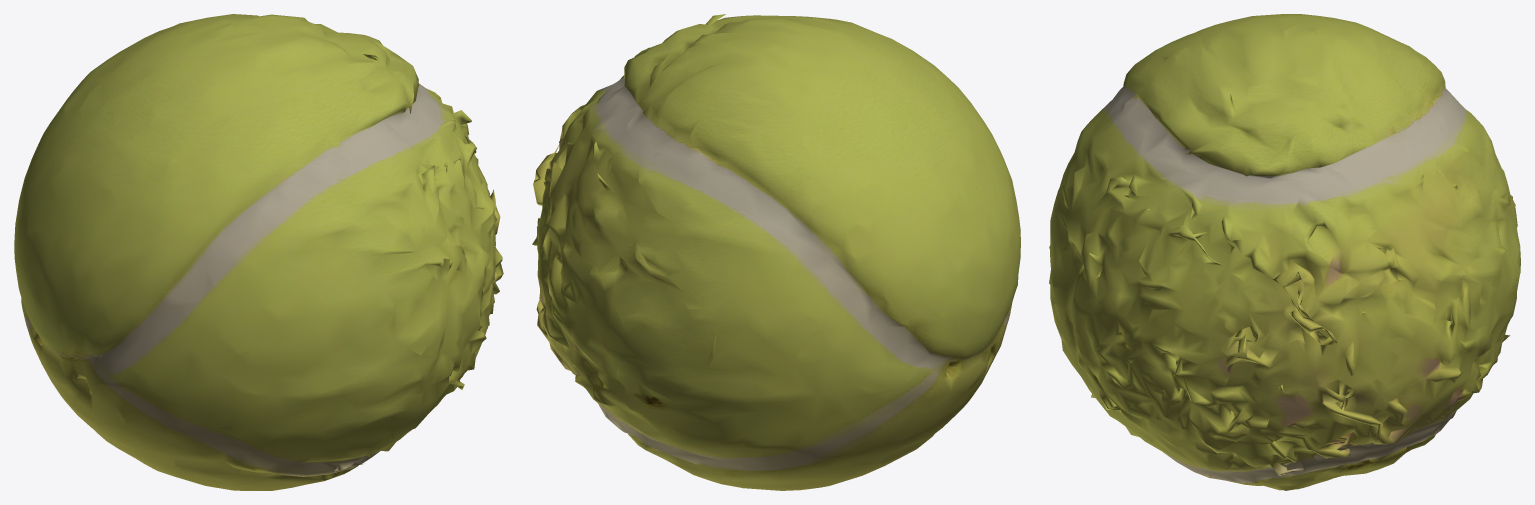
Rendered from tennis_old_h3.glb.
The picture shows the model from 3 angles, left to right: view 1: azimuth 30°, elevation 25°; view 2: azimuth 150°, elevation 25°; view 3: azimuth 270°, elevation 25°; orthographic projection.
Visible parts, largest first — view 1: tripo_node_d0b63dc8-525c-406c-99cc-2de032985ba7; view 2: tripo_node_d0b63dc8-525c-406c-99cc-2de032985ba7; view 3: tripo_node_d0b63dc8-525c-406c-99cc-2de032985ba7.
Boxes of the visible parts, x1,y1,x2,y2 form: tripo_node_d0b63dc8-525c-406c-99cc-2de032985ba7: (14, 14, 503, 490); tripo_node_d0b63dc8-525c-406c-99cc-2de032985ba7: (532, 14, 1020, 490); tripo_node_d0b63dc8-525c-406c-99cc-2de032985ba7: (1049, 14, 1520, 490).
Size of the model in its own units: 1 by 0.9419 by 0.9279.
1 material, 1 textured.
